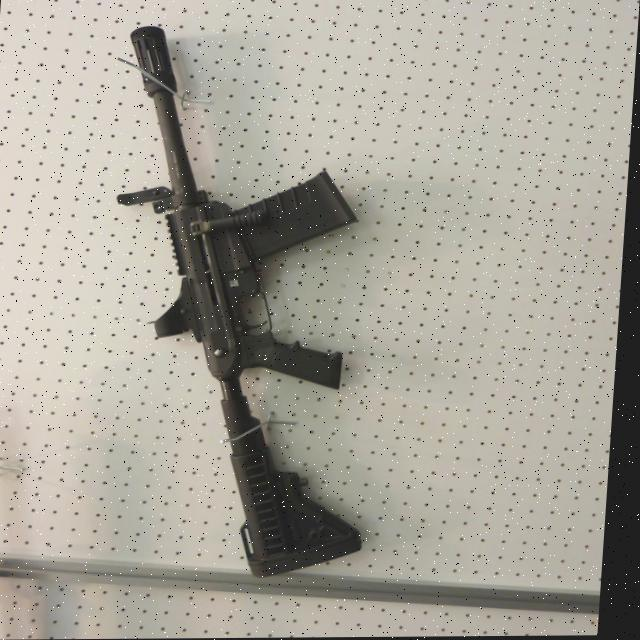firearm: (98, 24, 399, 579), (0, 410, 23, 640)
